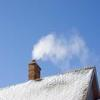chimneys: (28, 60, 40, 81)
